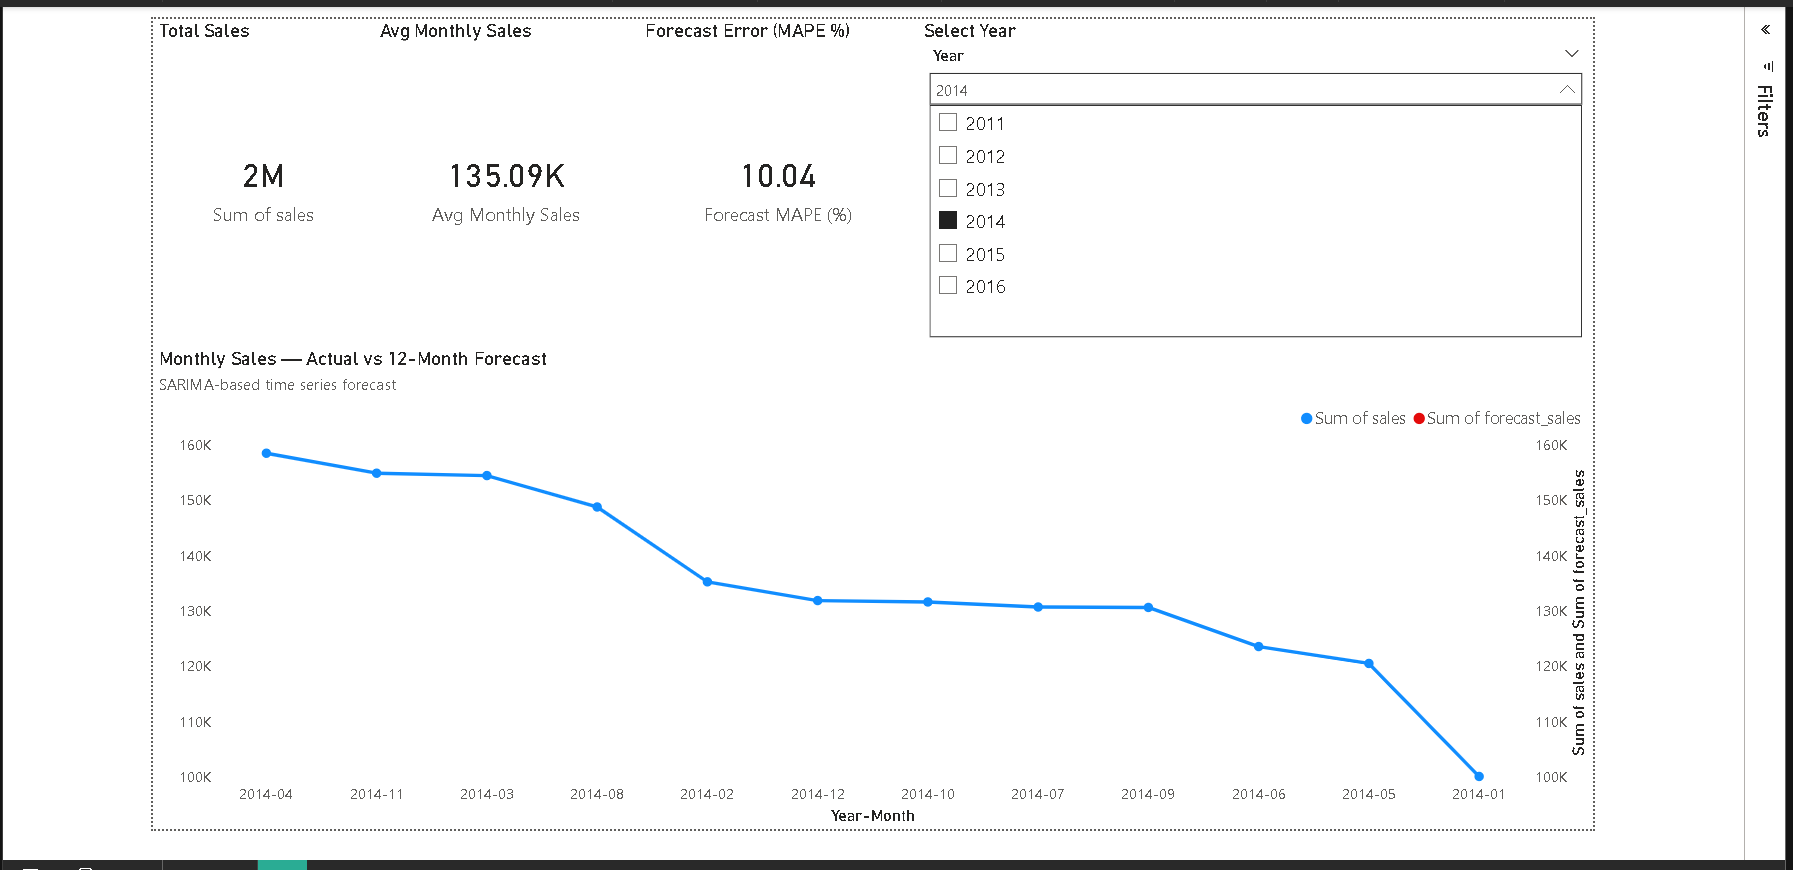

This screenshot's page, from the dashboard's own definition file:
{"tool":"powerbi","page":{"name":"Page 1","canvas":[1280,720],"ordinal":0},"visuals":[{"type":"lineChart","title":"Monthly Sales — Actual vs 12-Month Forecast","fields":{"Category":["Calendar.Year-Month"],"Y":["Sum(superstore_sales_cleaned.sales)"],"Y2":["Sum(sales_forecast_12_months.forecast_sales)"]},"box":[0,291.4,1280,430],"z":0},{"type":"card","title":"Total Sales","fields":{"Values":["Sum(superstore_sales_cleaned.sales)"]},"box":[0,0,196.2,277.5],"z":1000},{"type":"card","title":"Avg Monthly Sales","fields":{"Values":["superstore_sales_cleaned.Avg Monthly Sales"]},"box":[196.2,0,235,278.8],"z":2000},{"type":"card","title":"Forecast Error (MAPE %)","fields":{"Values":["superstore_sales_cleaned.Forecast MAPE (%)"]},"box":[432.2,0,247.8,277.8],"z":3000},{"type":"slicer","title":"Select Year","fields":{"Values":["Calendar.Year"]},"box":[680,0,600,277.5],"z":4000}]}

Visuals, with their boxes on the page's 1280x720 design canvas (x1, y1, x2, y2). These are canvas units, not pixel positions in the 1793x870 screenshot, which may show the page scaled, cropped or inside an application window:
"Monthly Sales — Actual vs 12-Month Forecast" lineChart: region(0, 291, 1280, 721)
"Total Sales" card: region(0, 0, 196, 278)
"Avg Monthly Sales" card: region(196, 0, 431, 279)
"Forecast Error (MAPE %)" card: region(432, 0, 680, 278)
"Select Year" slicer: region(680, 0, 1280, 278)
